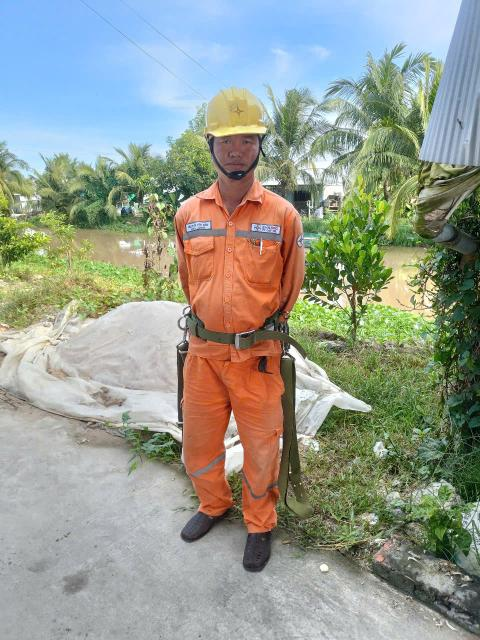harness: (174, 300, 294, 374)
helmet: (202, 80, 272, 147)
shoes: (233, 517, 279, 575), (168, 493, 217, 542)
